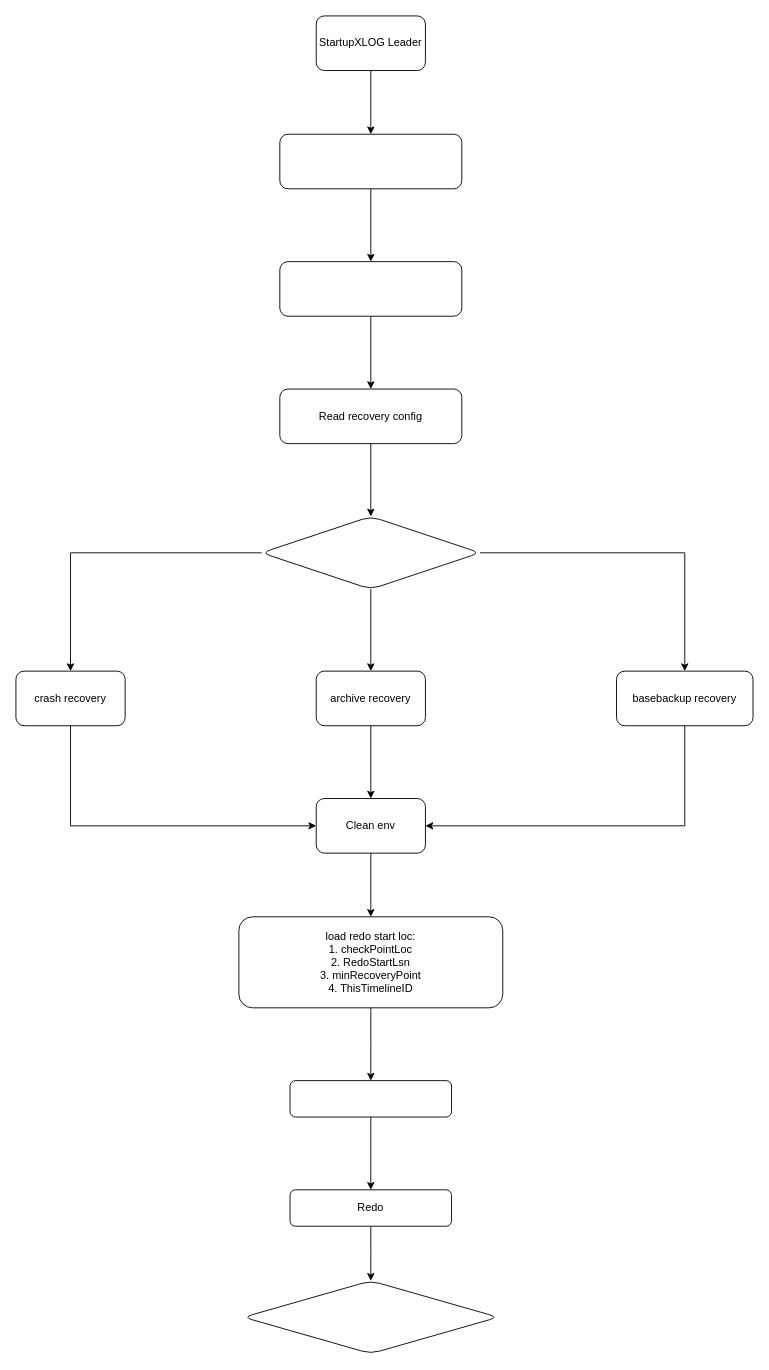
The diagram is 769 pixels wide and 1370 high, and some of its shapes have lost their labels. Here are the shapes that lost their labels. From the top down, the box of each, then its label:
(279, 133, 462, 189): Verufy pg_controldata state
(279, 261, 462, 316): Reset crash env
(261, 516, 480, 589): Check recovery mode
(289, 1080, 452, 1117): Check redo validable
